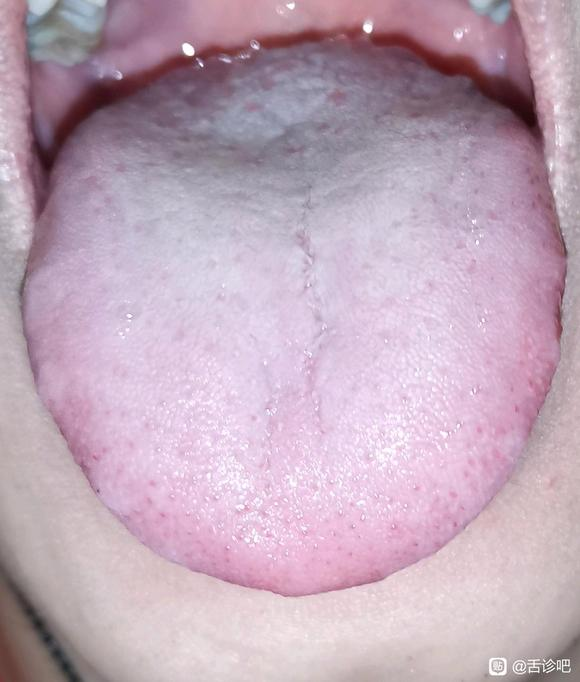baitaishe: (22, 34, 568, 596)
hongdianshe: (407, 479, 422, 494)
